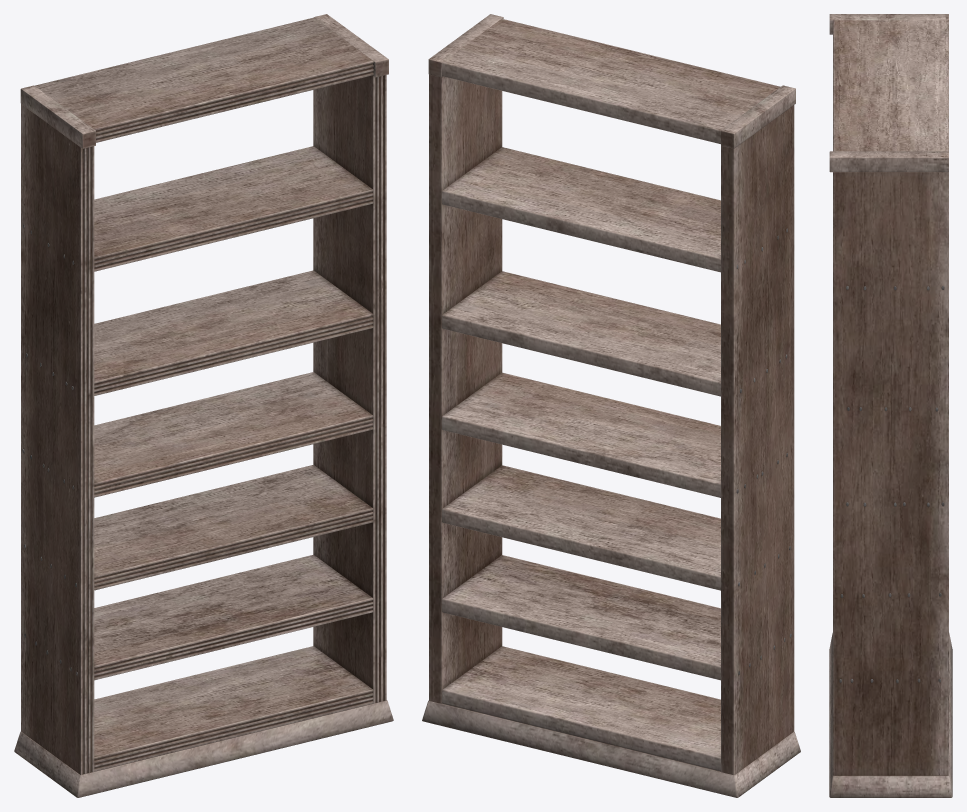
Rendered from wooden_bookshelf_worn.glb.
3 views of the same model, side by side, from view 1: azimuth 30°, elevation 25°; view 2: azimuth 150°, elevation 25°; view 3: azimuth 270°, elevation 25° (orthographic). The views are drawn at different scales.
Parts seen in each view (by area): view 1: wooden_bookshelf_worn; view 2: wooden_bookshelf_worn; view 3: wooden_bookshelf_worn.
Boxes of the visible parts, x1,y1,x2,y2 form: wooden_bookshelf_worn: [14, 14, 393, 797]; wooden_bookshelf_worn: [422, 14, 800, 797]; wooden_bookshelf_worn: [829, 14, 952, 797].
Bounding box in the file's own units: 1 × 2 × 0.3501.
Materials: 1 (1 with a texture image).
